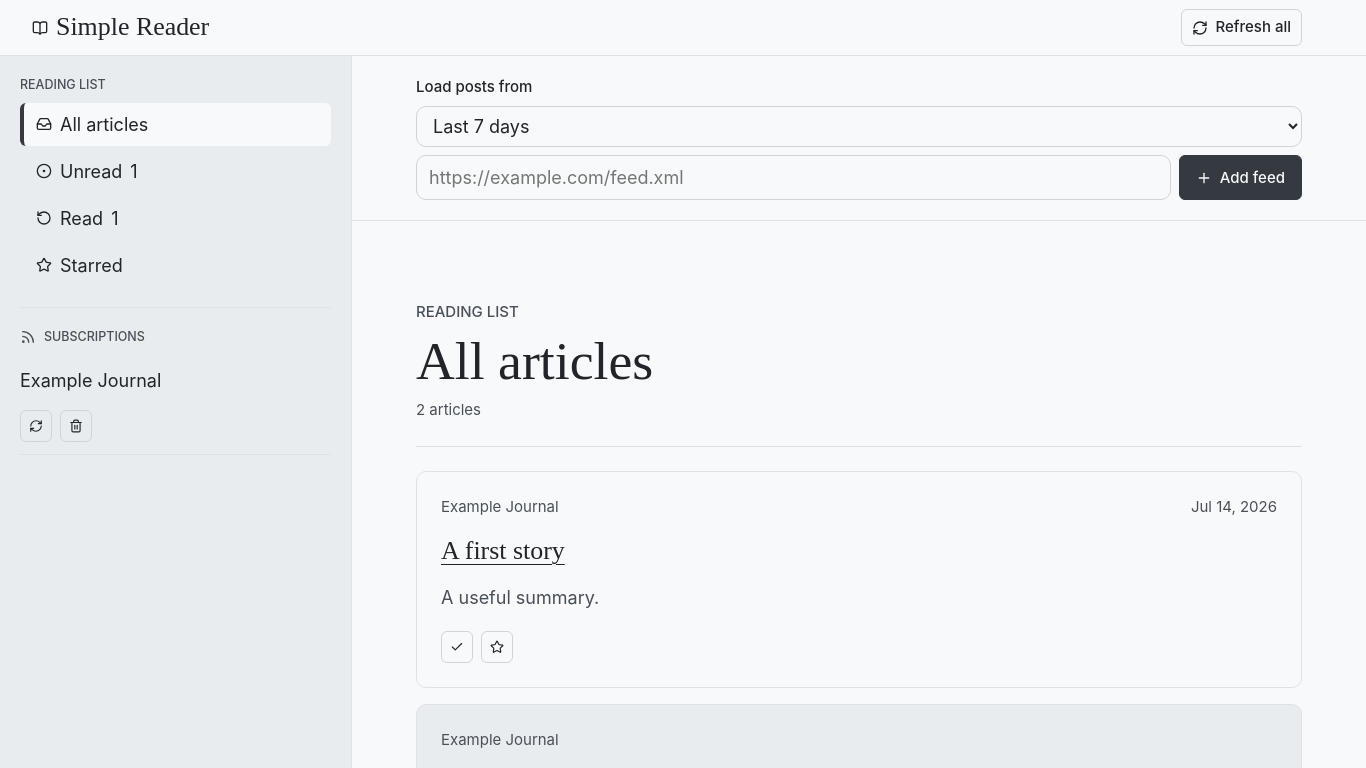
it: ReaderApp › uses a native view transition for reader-view navigation when available
Step 1. Click the link with aria-label "Unread, 1 article" → (87, 171), box [36,161,138,182]
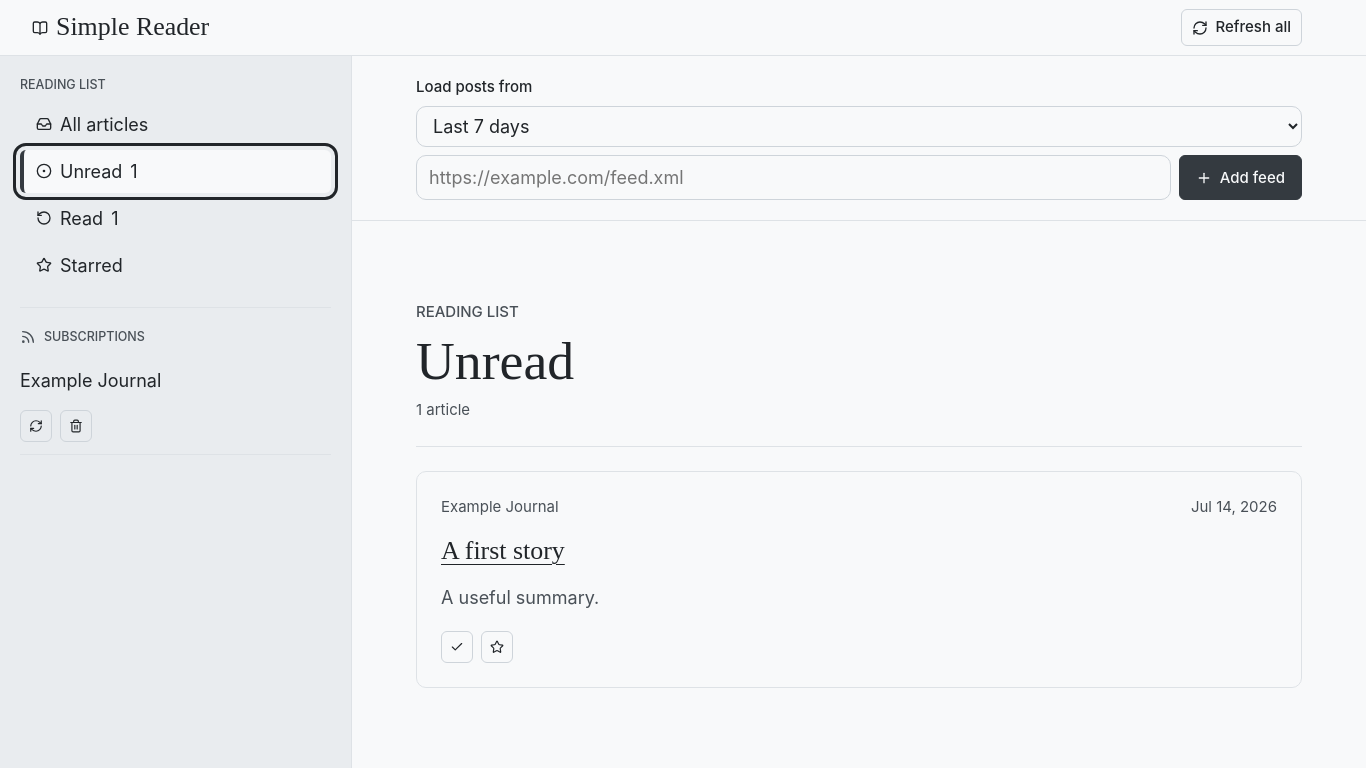
Result: the heading "Unread" is shown at [416,331,574,391]
